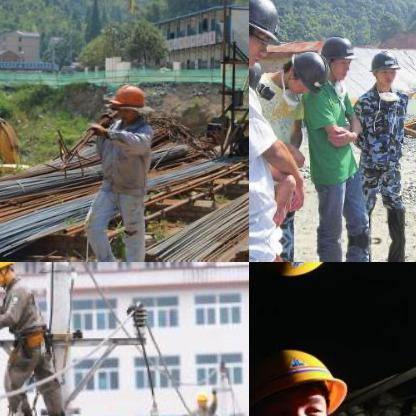Helmet: (249, 333, 351, 415), (249, 262, 352, 291), (249, 0, 287, 67), (280, 46, 330, 96), (318, 31, 356, 80), (104, 78, 146, 122), (368, 48, 400, 86), (0, 262, 18, 286), (194, 390, 206, 406)
